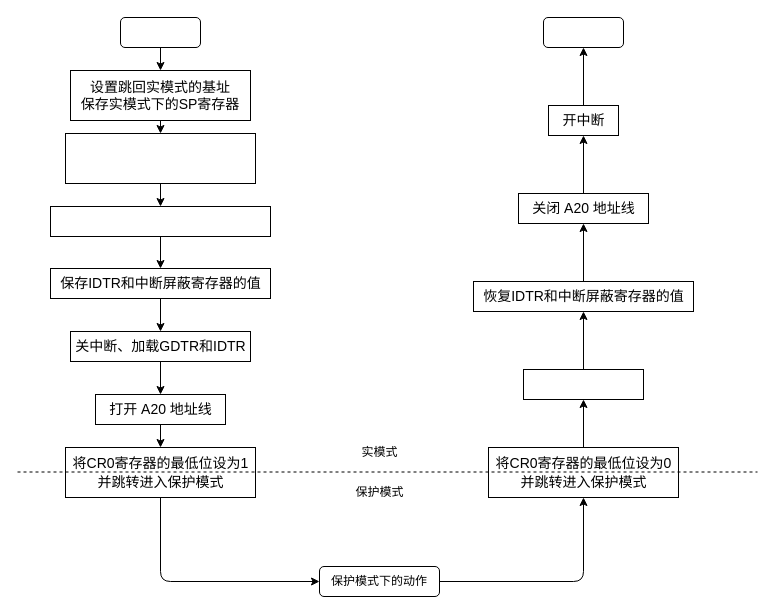
The diagram is 776 pixels wide and 614 high, and some of its shapes have lost their labels. The box of each missing label's shape, as (x1, y1, x2, y2) in pixels:
使用15号中断得到内存信息: (64, 132, 256, 184)
初始化描述符、 GDT和IDT的基址: (50, 206, 270, 236)
恢复 sp 寄存器: (522, 368, 644, 400)
程序入口: (120, 16, 200, 48)
程序出口: (542, 16, 624, 48)
